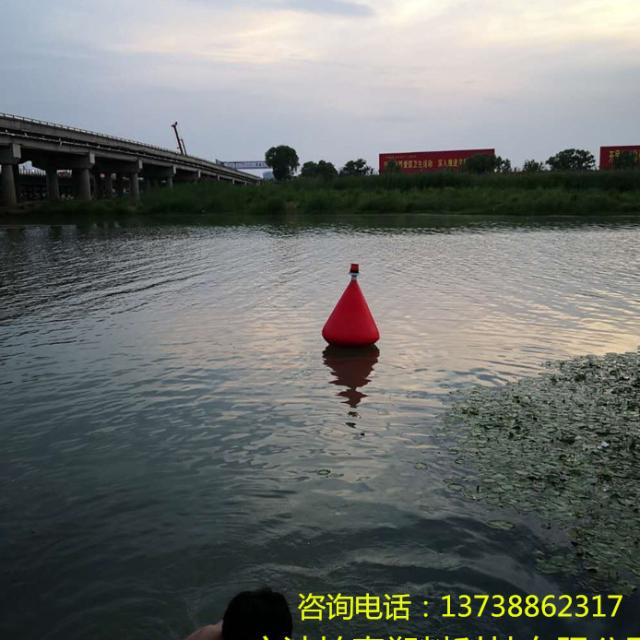buoy: (317, 263, 388, 348)
